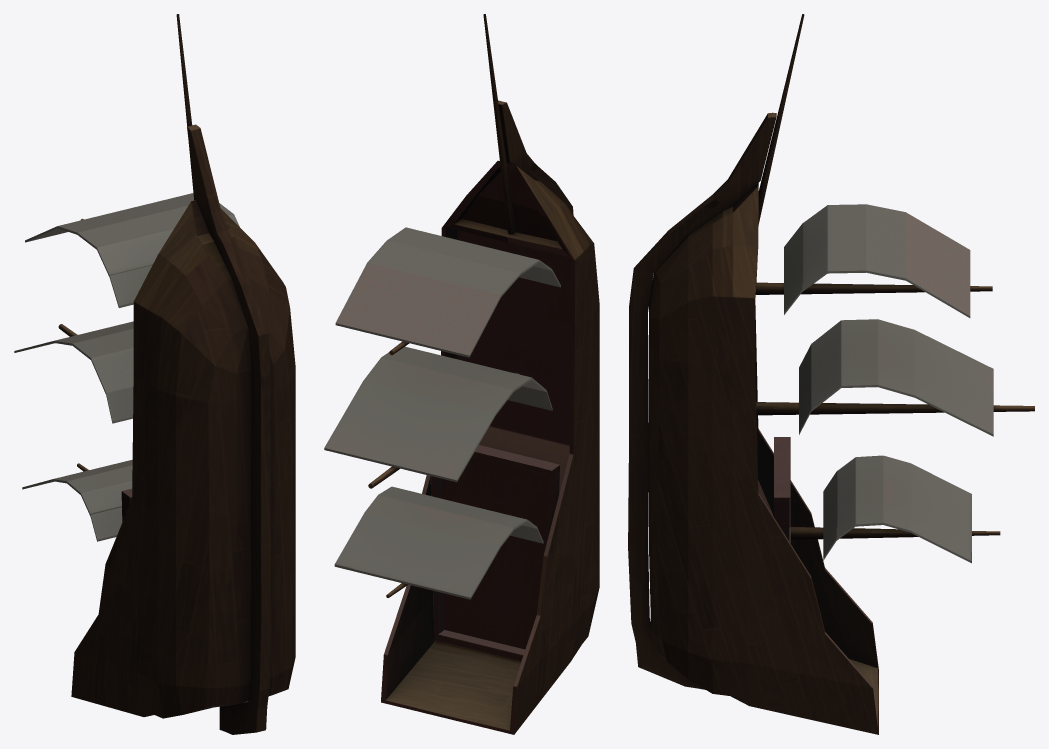
Rendered from galleon_enemy.fbx.
The picture shows the model from 3 angles, left to right: view 1: azimuth 30°, elevation 25°; view 2: azimuth 150°, elevation 25°; view 3: azimuth 270°, elevation 25°; orthographic projection. The views are drawn at different scales.
Visible parts, largest first — view 1: Cube; view 2: Cube; view 3: Cube.
Boxes of the visible parts, x1=… form: Cube: x1=14, y1=14, x2=295, y2=734; Cube: x1=324, y1=14, x2=599, y2=734; Cube: x1=628, y1=14, x2=1034, y2=734.
Bounding box in the file's own units: 247 × 1177 × 631.
1 material, 1 textured.
